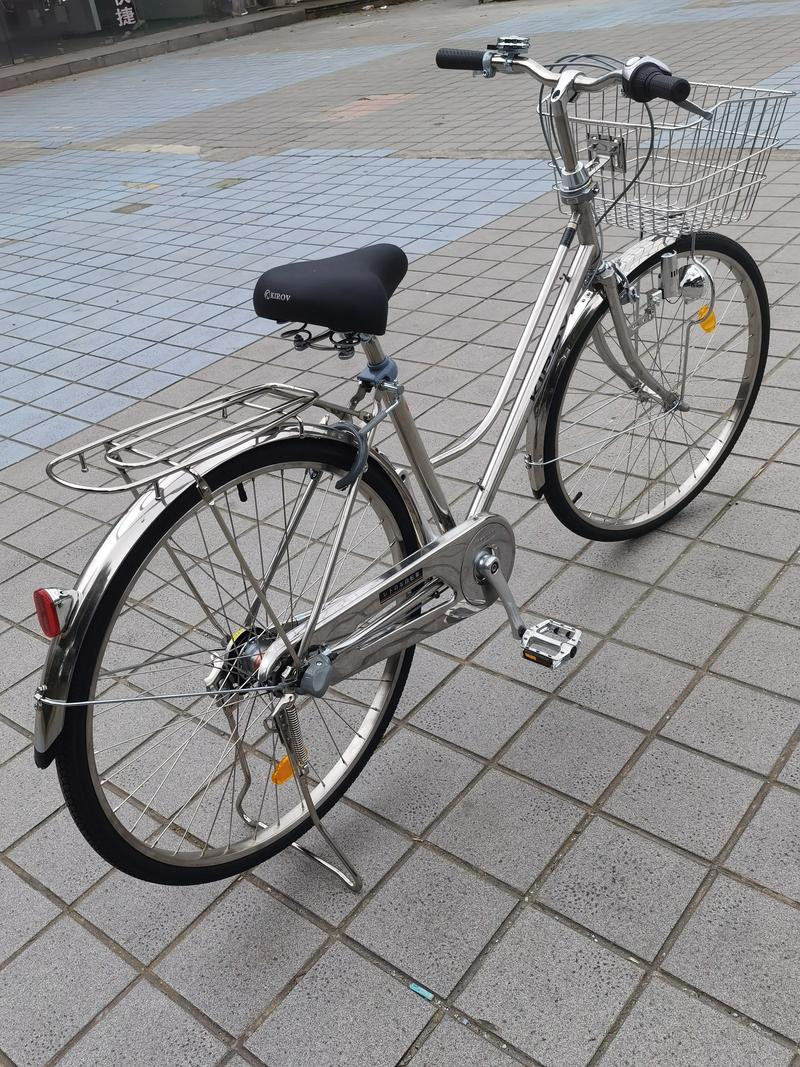单车: (7, 26, 782, 904)
